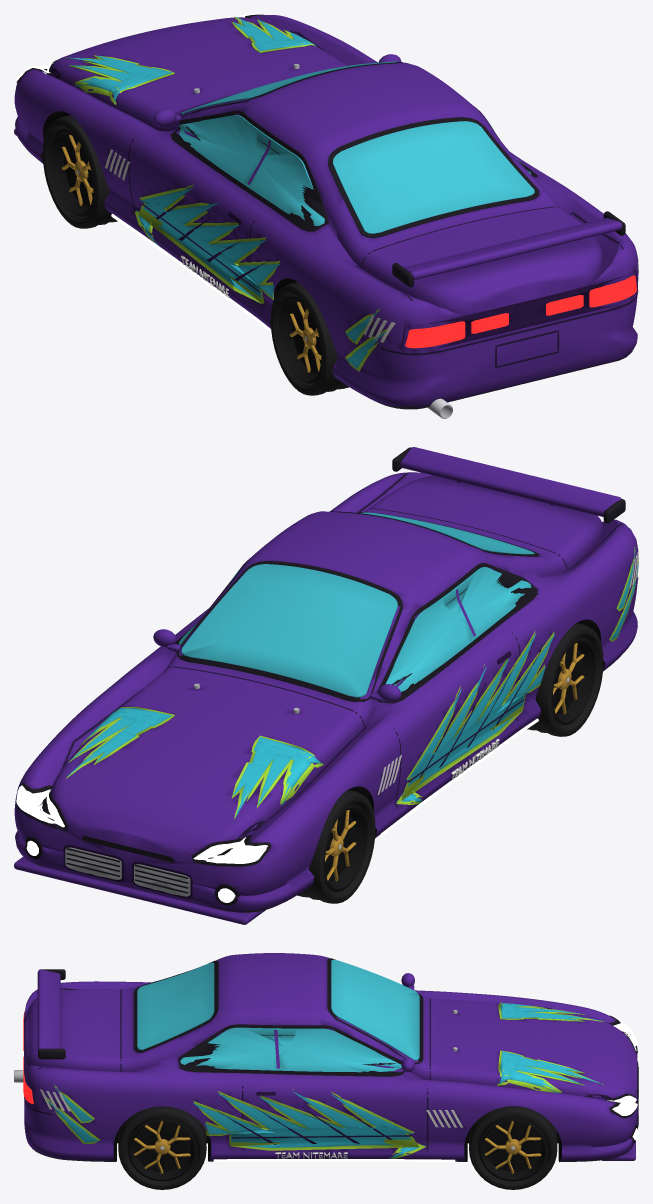
The model's file is rose.glb.
The picture shows the model from 3 angles, top to bottom: view 1: azimuth 30°, elevation 25°; view 2: azimuth 150°, elevation 25°; view 3: azimuth 270°, elevation 25°; orthographic projection. The views are drawn at different scales.
Parts seen in each view (by area): view 1: body, wheel_RL, wheel_FL; view 2: body, wheel_RL, wheel_FL; view 3: body, wheel_RR, wheel_FR.
Part boxes in pixels (box(x1,y1,x2,y2)): body: box(14, 14, 638, 418); wheel_RL: box(270, 282, 348, 395); wheel_FL: box(42, 115, 117, 228); body: box(14, 447, 638, 924); wheel_RL: box(527, 623, 603, 736); wheel_FL: box(297, 790, 375, 903); body: box(14, 953, 638, 1162); wheel_RR: box(118, 1106, 206, 1189); wheel_FR: box(469, 1106, 557, 1189).
Size of the model in its own units: 1.8 by 1.31 by 4.53.
